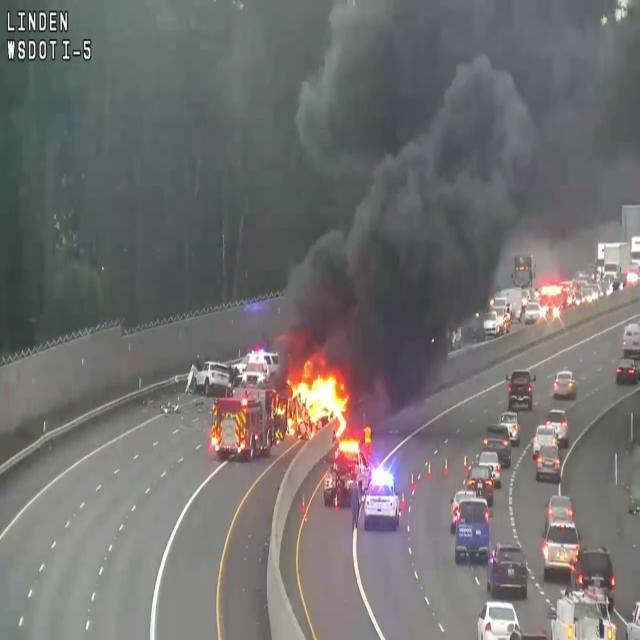Fire: (282, 362, 344, 429)
Smoke: (272, 0, 638, 352)
